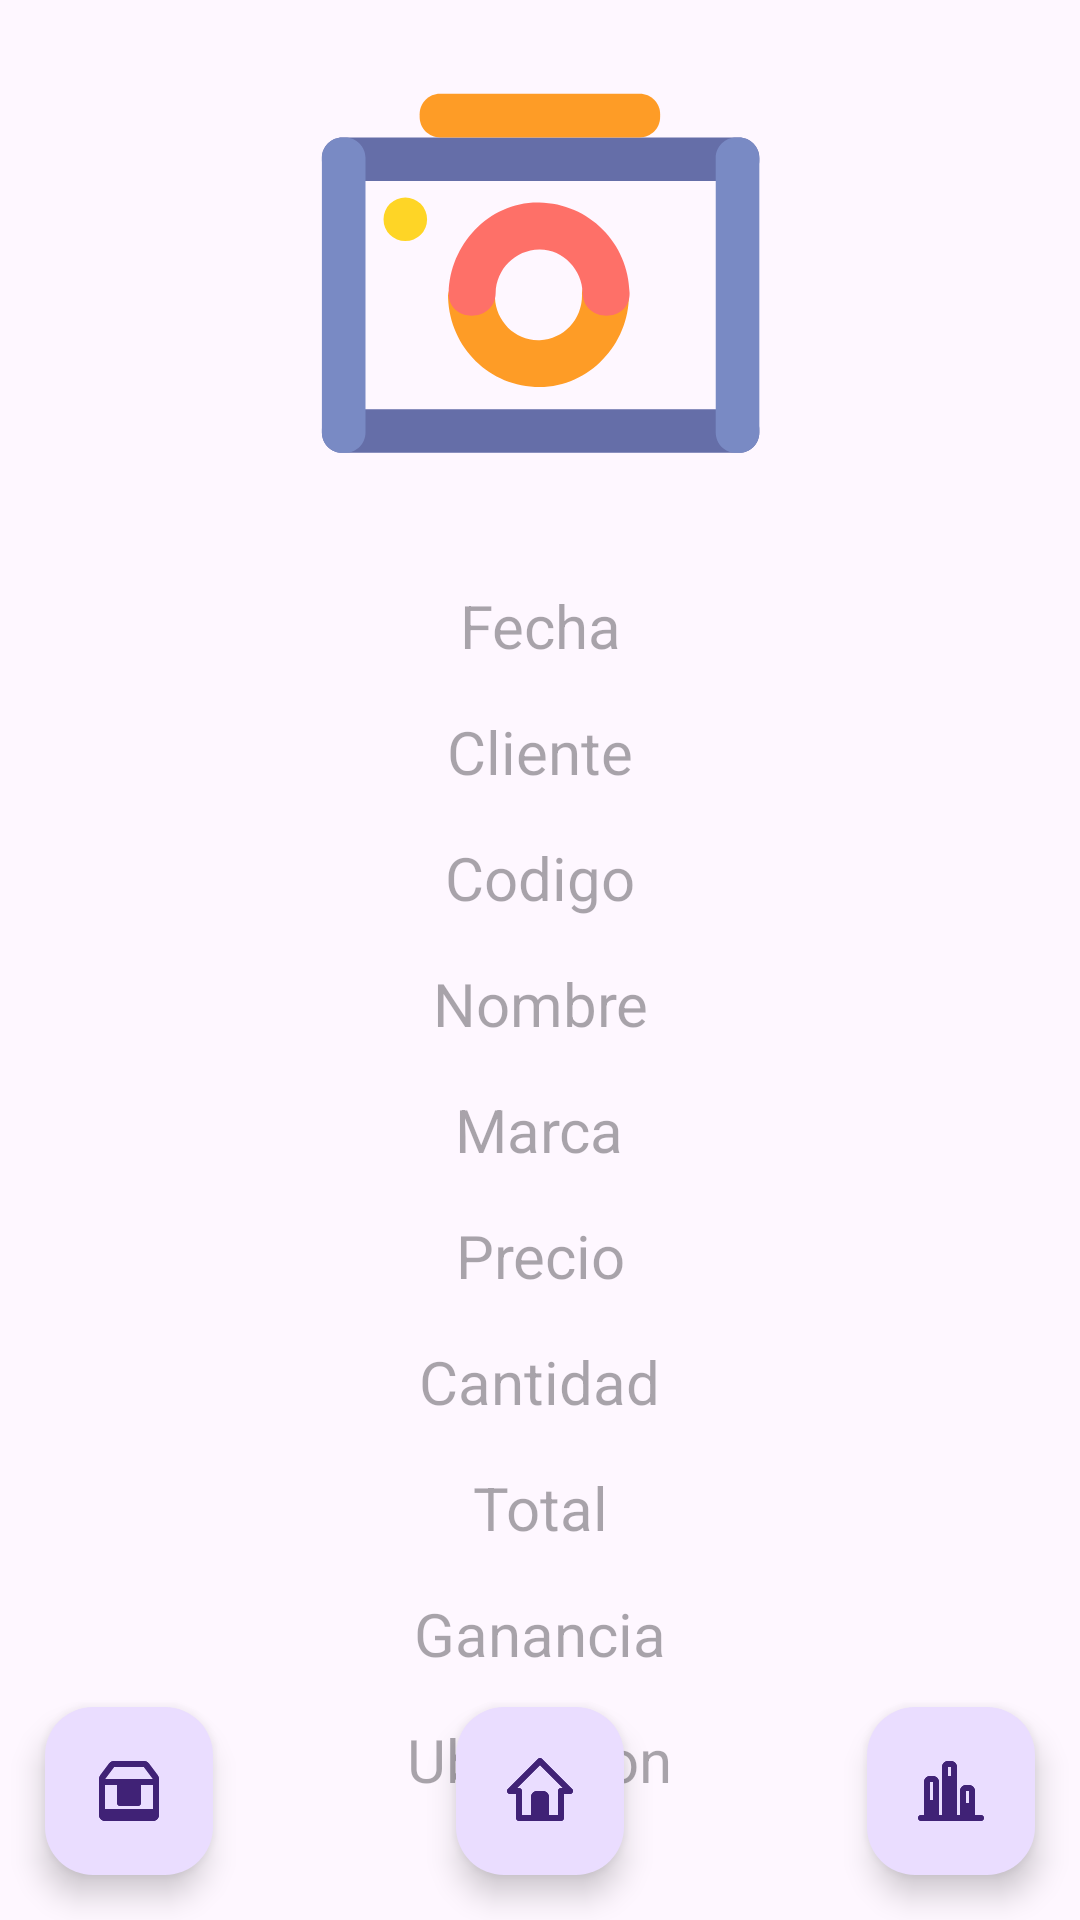

Where icons sit on this 1080px×1920px app screen, as (x1, y1, x2, y2):
manage bar: (867, 1707, 1035, 1875)
manage box: (45, 1707, 213, 1875)
manage home: (456, 1707, 624, 1875)
